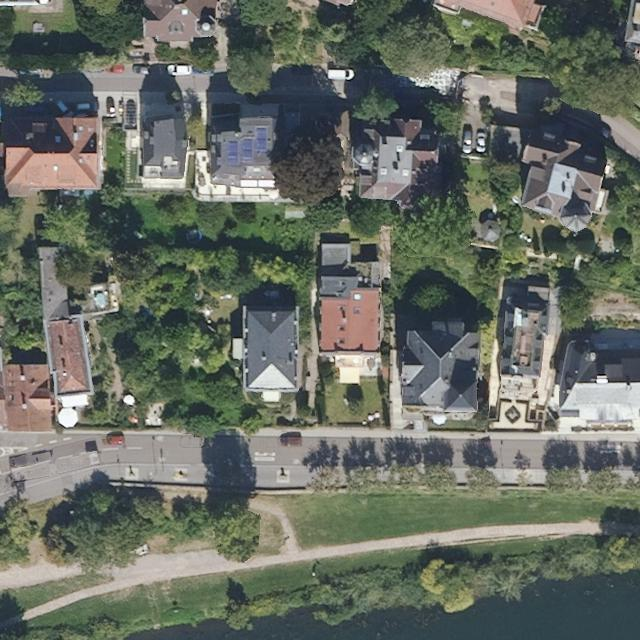PV: (254, 128, 271, 154), (240, 137, 254, 162), (227, 138, 238, 165)
